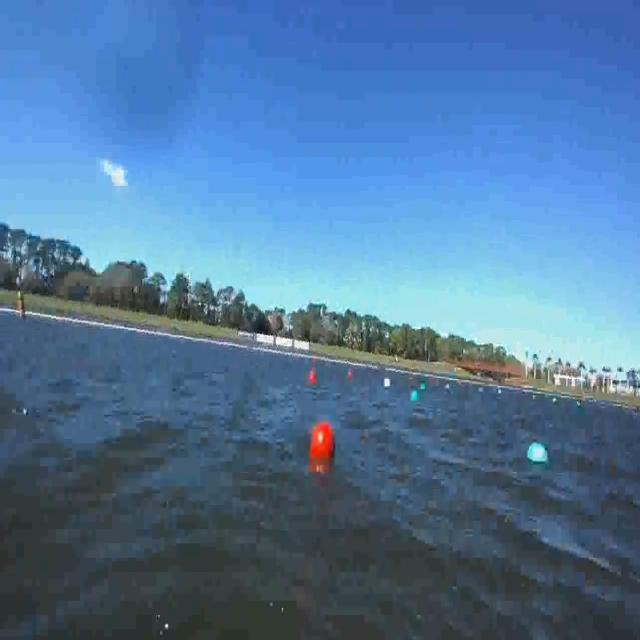green-buoy: (527, 443, 548, 467), (409, 388, 420, 403), (419, 379, 424, 392)
red-buoy: (310, 420, 337, 463), (307, 367, 320, 388), (347, 368, 352, 380)
yellow-buoy: (384, 377, 390, 388)
